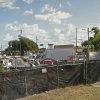Car: (4, 50, 44, 72)
